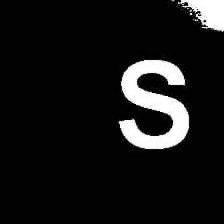LTR_S: (112, 51, 193, 154)
